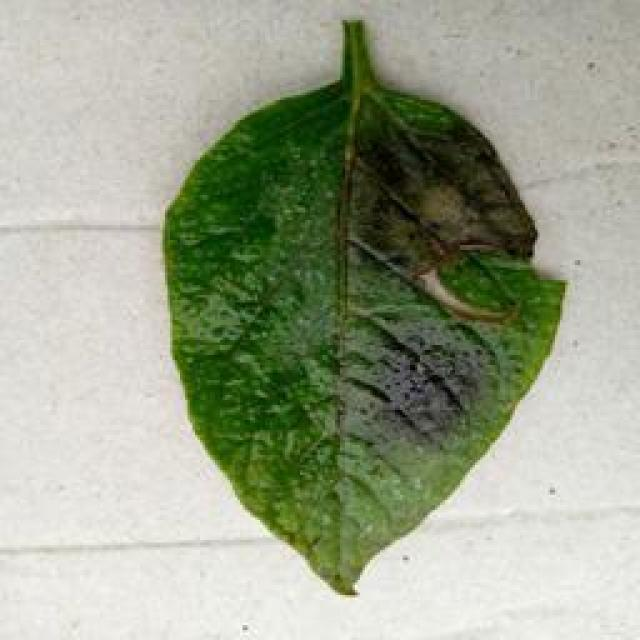late_blight: (158, 18, 570, 598)
